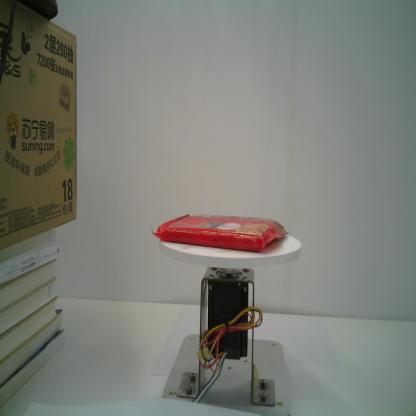Dessert: (151, 213, 289, 254)
